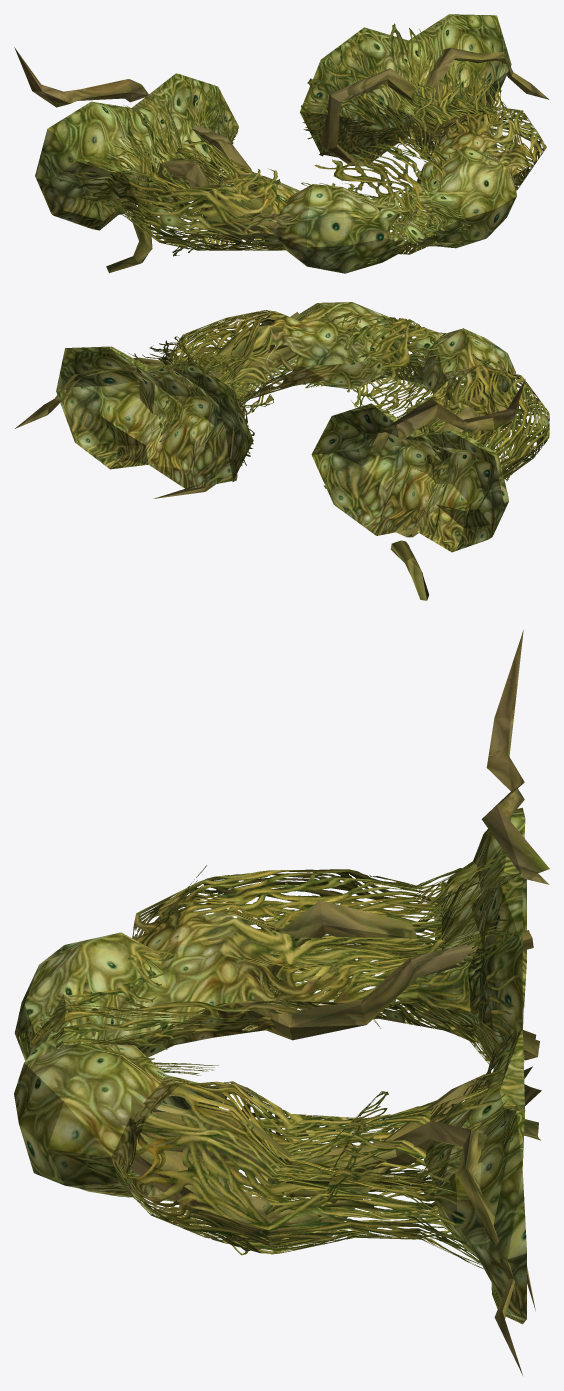
The model's file is huodong_fuben_249_tengman_01a.obj.
The picture shows the model from 3 angles, top to bottom: view 1: azimuth 30°, elevation 25°; view 2: azimuth 150°, elevation 25°; view 3: azimuth 270°, elevation 25°; orthographic projection. The views are drawn at different scales.
Visible parts, largest first — view 1: huodong_fuben_249_tengman_01a; view 2: huodong_fuben_249_tengman_01a; view 3: huodong_fuben_249_tengman_01a.
Boxes of the visible parts, x1,y1,x2,y2 form: huodong_fuben_249_tengman_01a: (14, 14, 549, 273); huodong_fuben_249_tengman_01a: (15, 302, 549, 600); huodong_fuben_249_tengman_01a: (14, 630, 549, 1375).
Bounding box in the file's own units: 588 × 266 × 303.
3 materials, 3 textured.
